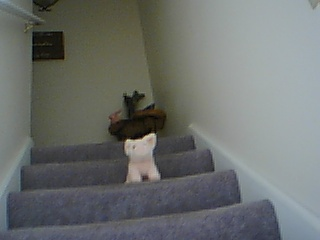piggy: (122, 132, 162, 185)
